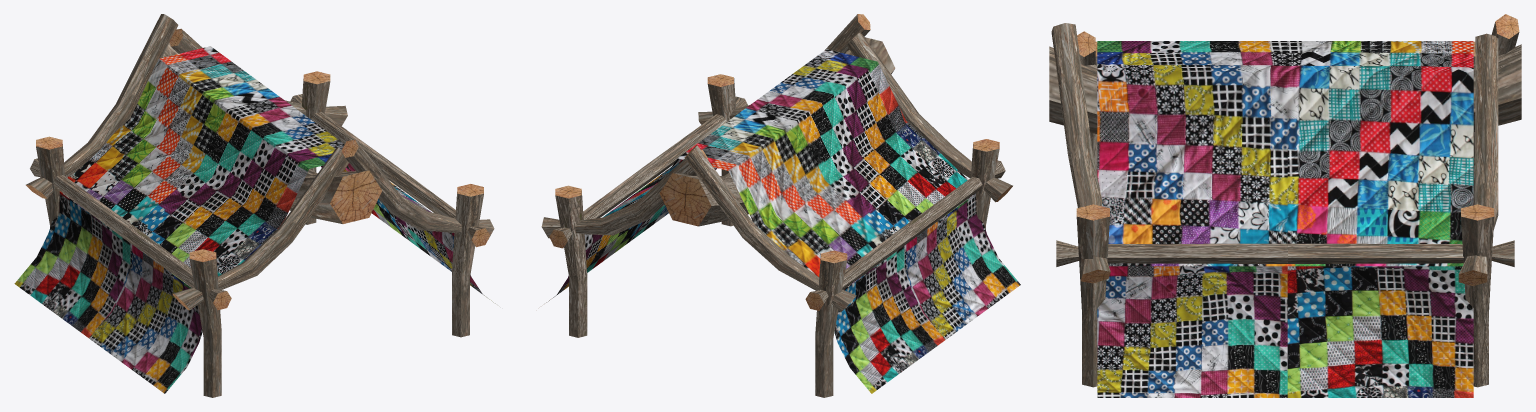
The model's file is tentV1.obj.
3 views of the same model, side by side, from view 1: azimuth 30°, elevation 25°; view 2: azimuth 150°, elevation 25°; view 3: azimuth 270°, elevation 25° (orthographic). The views are drawn at different scales.
Parts seen in each view (by area): view 1: pCube4; view 2: pCube4; view 3: pCube4.
Boxes of the visible parts, x1,y1,x2,y2 form: pCube4: (14,14,495,397); pCube4: (541,14,1020,397); pCube4: (1049,14,1521,397).
Size of the model in its own units: 3.31 by 2.14 by 3.18.
1 material, 1 textured.
